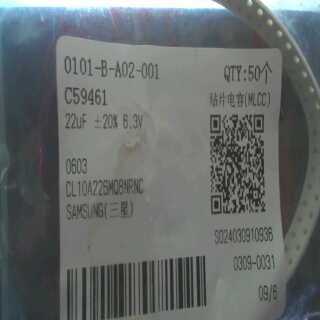22uF: (62, 110, 89, 131)
